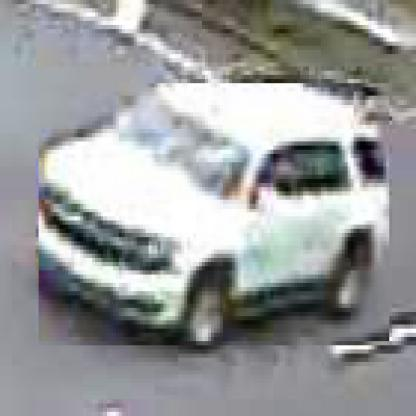car: (37, 85, 390, 351)
